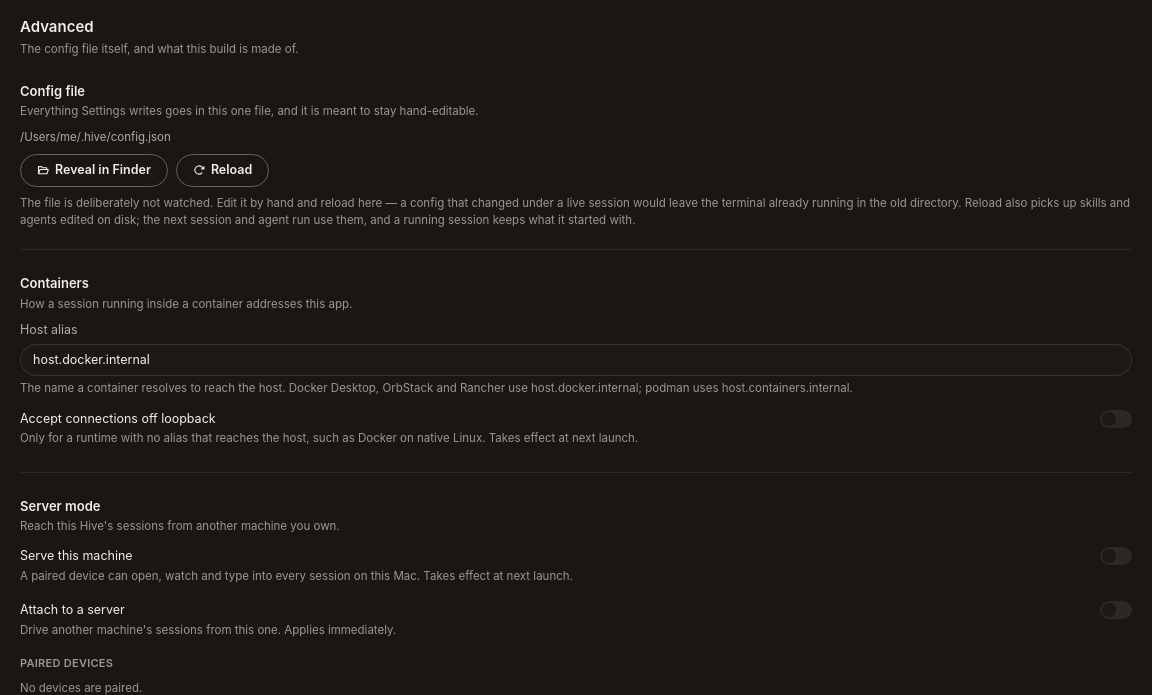
Test: AdvancedSection › reports problems rather than a count when the reload found some
Step 1. Click the button "Reload" → (223, 170), box [176, 154, 269, 187]
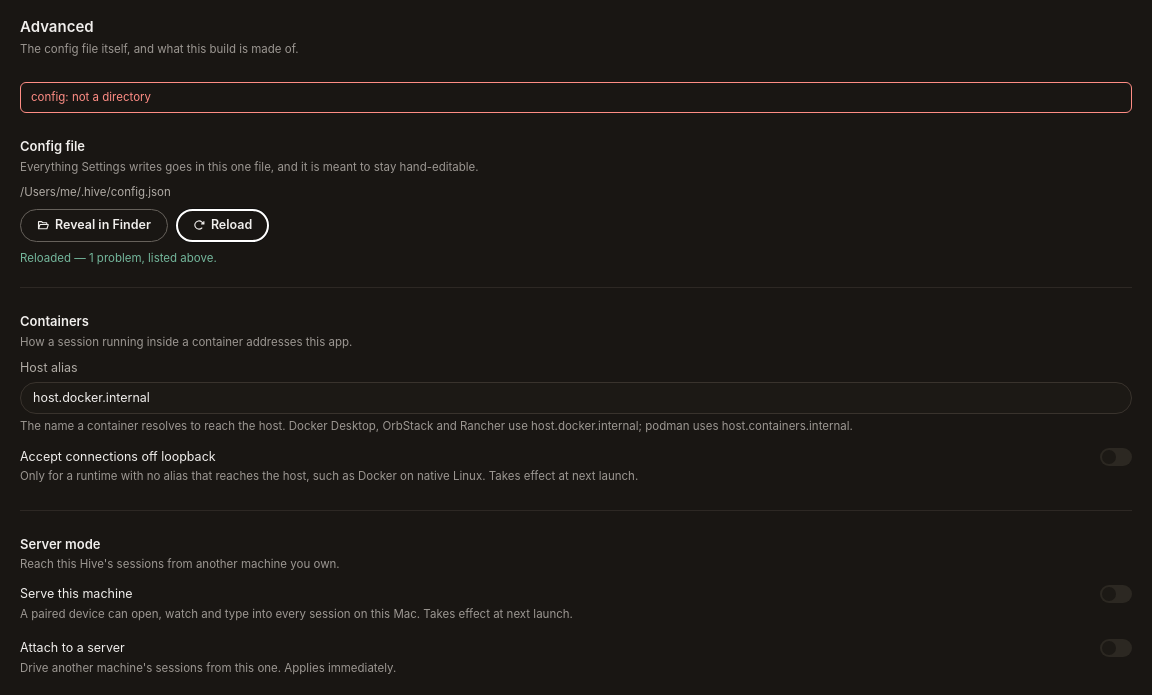
Check: the text "Reloaded — 1 problem, listed above." is shown, box [20, 251, 217, 265]
Check: the text "config: not a directory" is shown, box [20, 82, 1132, 113]
